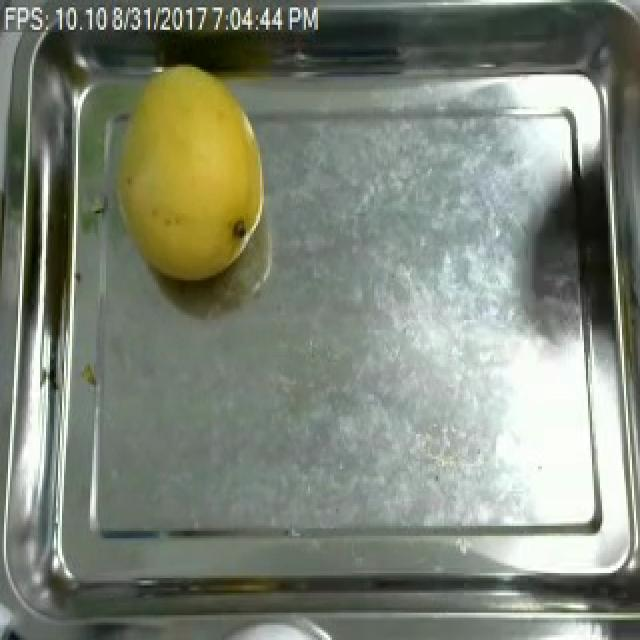fruit: (96, 57, 276, 293)
